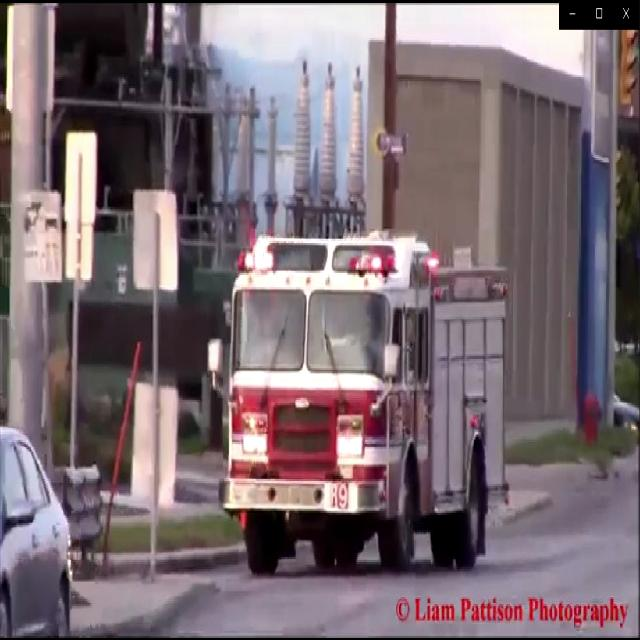emergency: (203, 224, 514, 584)
